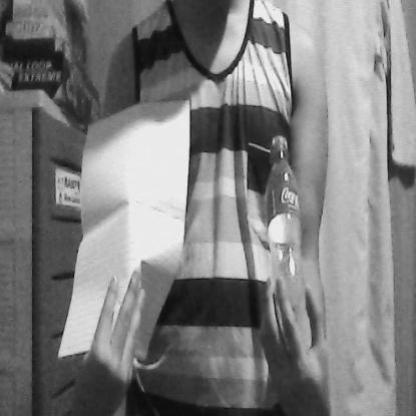Plastic Bottle: (259, 127, 310, 331)
